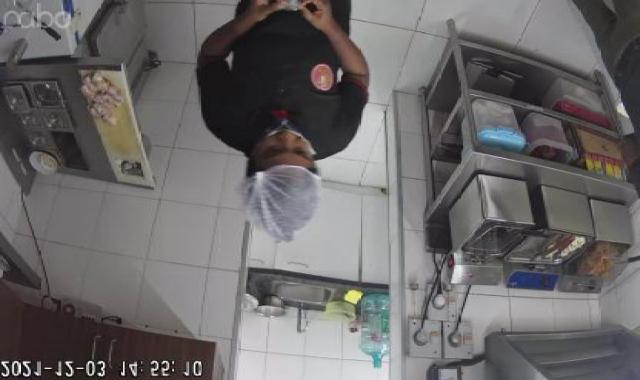hairnet: (240, 165, 339, 247)
